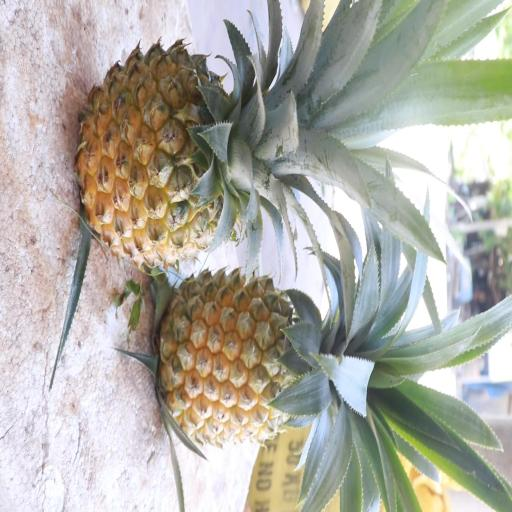Pineapple - v8 v1: (72, 34, 322, 272), (153, 264, 389, 453)
